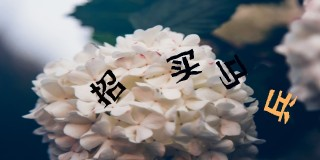买: (166, 48, 203, 82)
兵: (262, 89, 299, 124)
招: (89, 69, 127, 107)
马: (216, 54, 249, 90)
